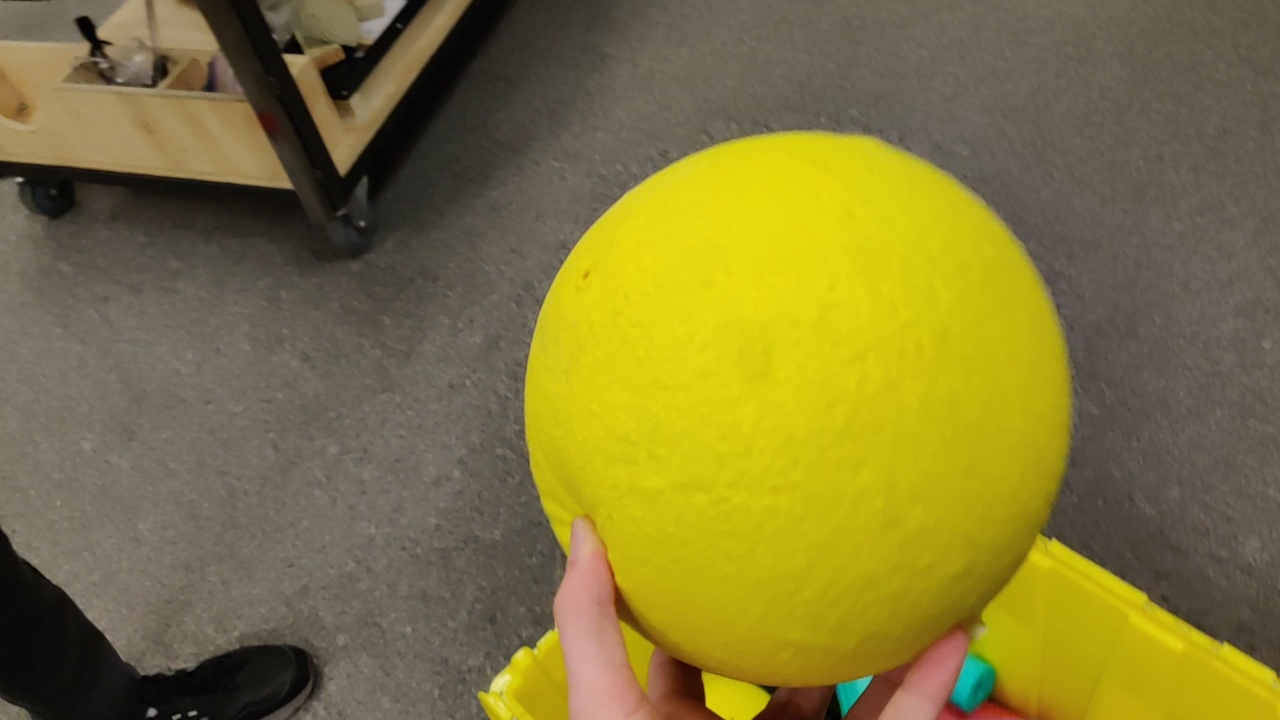Ball: (526, 131, 1077, 693)
